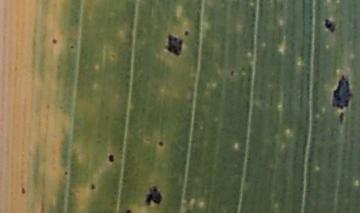tarspot: (332, 76, 352, 109), (167, 33, 183, 57), (146, 187, 162, 205), (325, 19, 336, 31), (339, 112, 345, 126), (62, 169, 69, 176), (230, 69, 235, 77), (183, 30, 189, 36), (90, 183, 96, 189), (51, 38, 57, 44), (109, 155, 114, 162), (158, 140, 163, 147), (22, 187, 26, 195), (125, 208, 131, 213), (69, 45, 74, 49)
